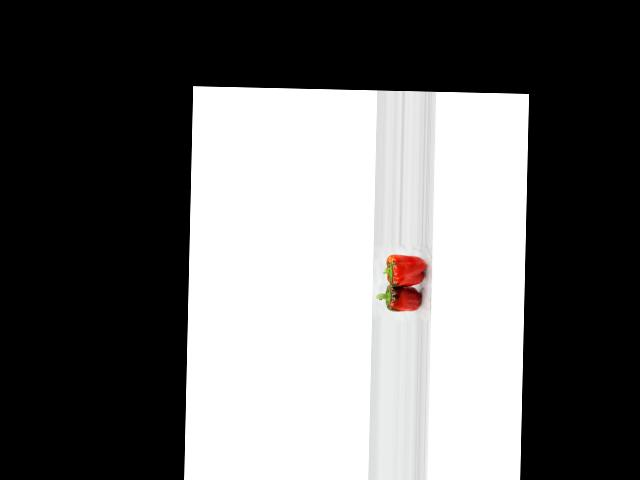bell_pepper: (380, 249, 427, 286)
